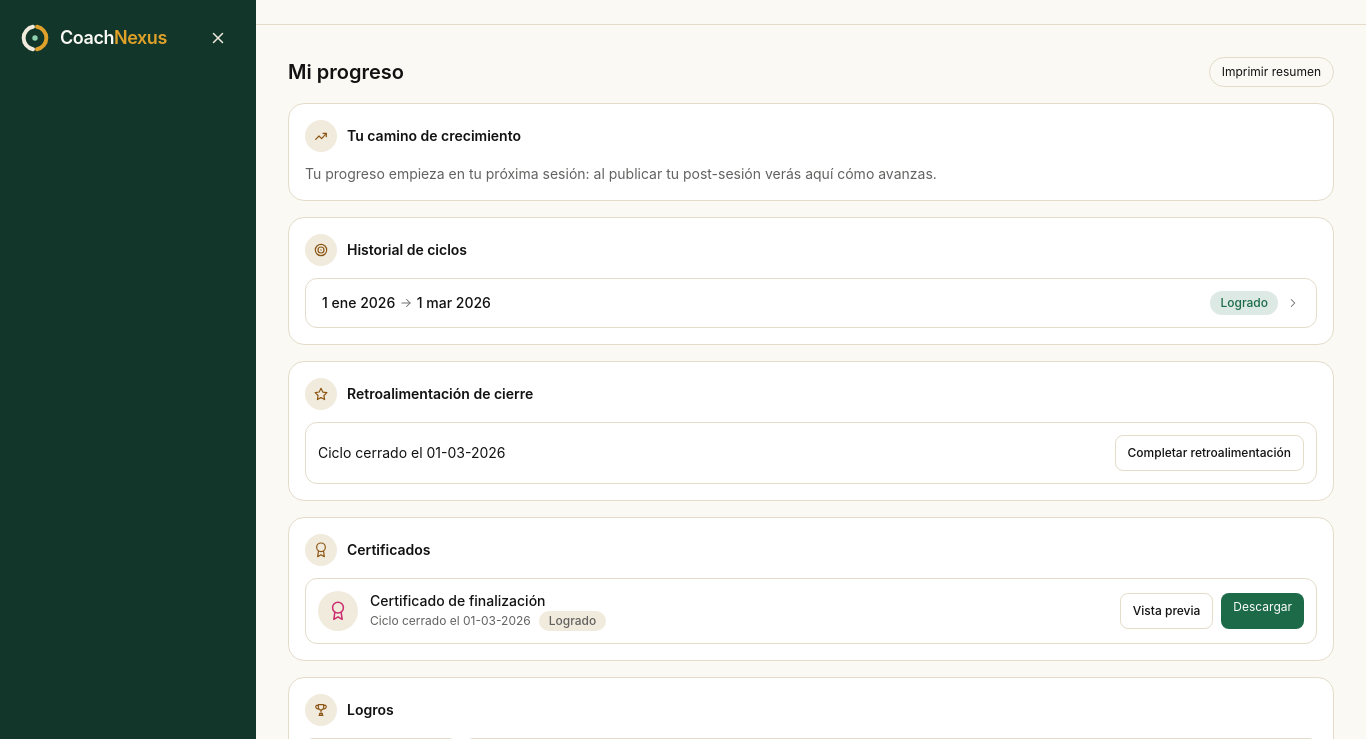
Test: ProgresoView — Certificados › opens a preview modal with the certificate data when "Vista previa" is clicked
Click the button "Vista previa": point(1167, 611) x1=1120 y1=593 x2=1213 y2=629
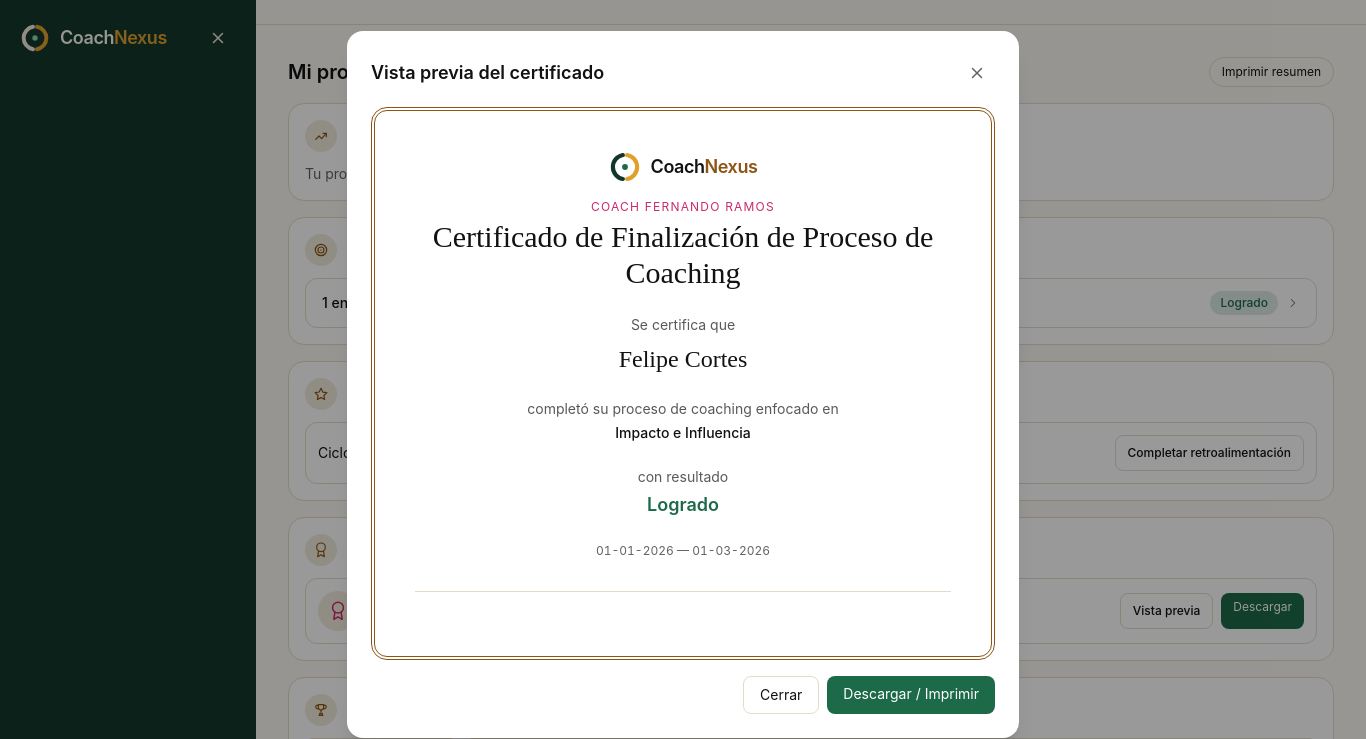
Expected: the text "Vista previa del certificado" is shown, x1=371 y1=58 x2=604 y2=86
Expected: the text "Felipe Cortes" is shown, x1=619 y1=346 x2=747 y2=372
Expected: the text "Impacto e Influencia" is shown, x1=615 y1=424 x2=751 y2=440
